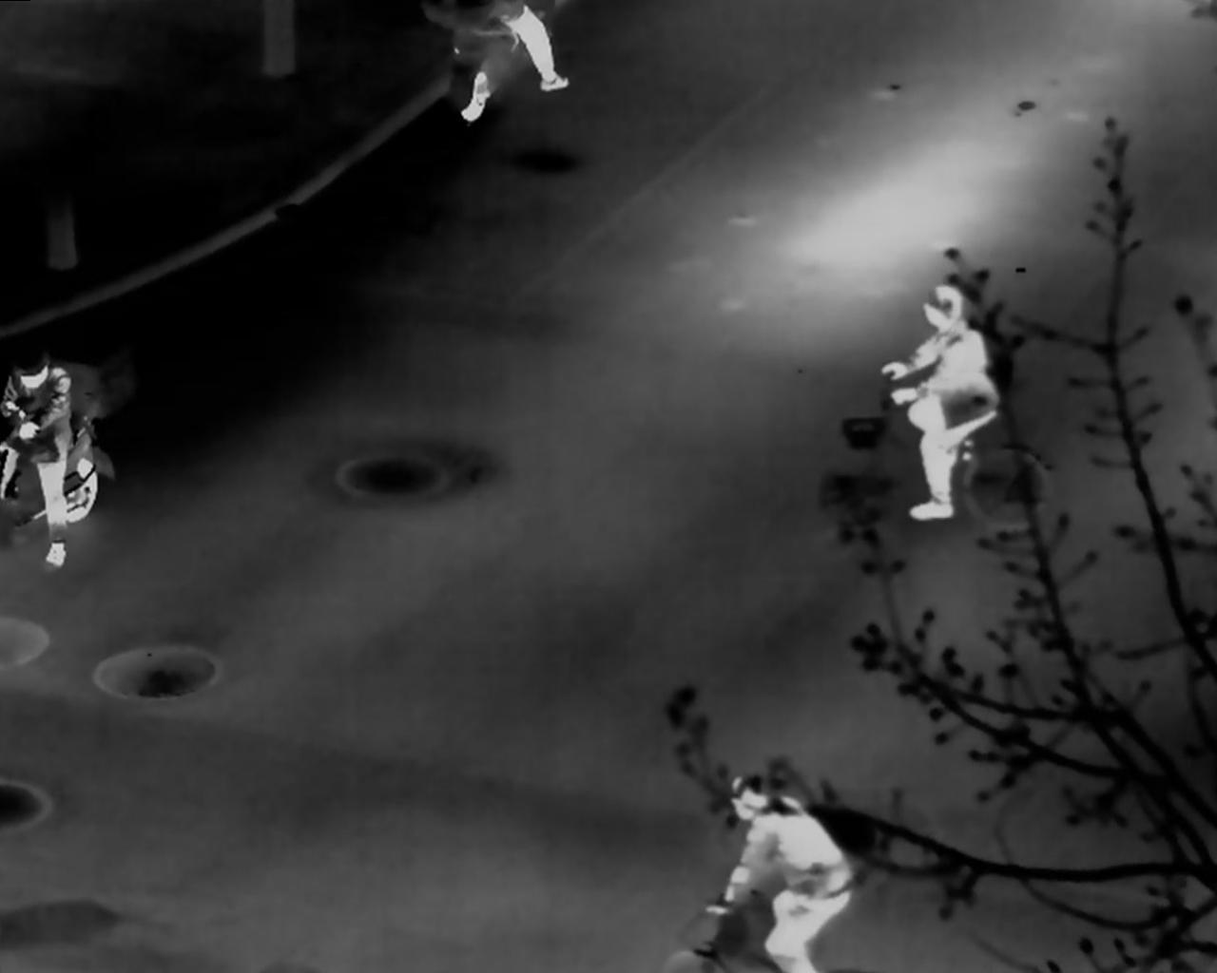person: (703, 773, 853, 973), (880, 282, 1000, 520), (2, 351, 72, 567)
